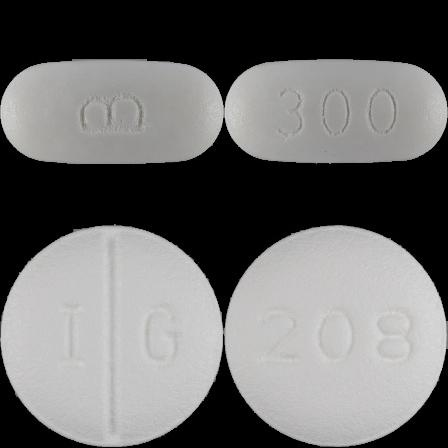68682-707: (0, 0, 224, 224)
